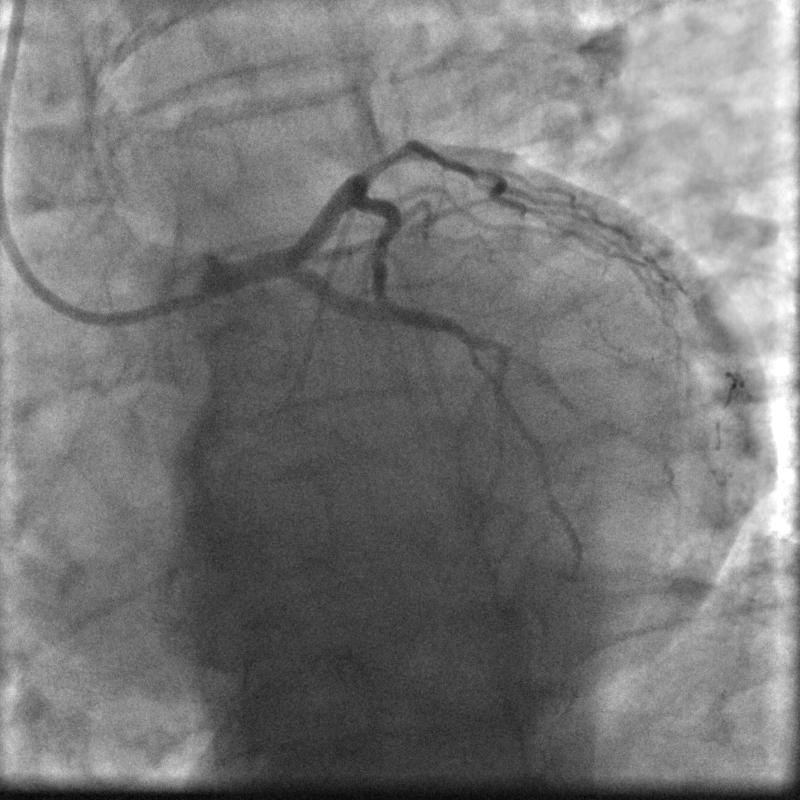Stenosis: (352, 133, 418, 178)
